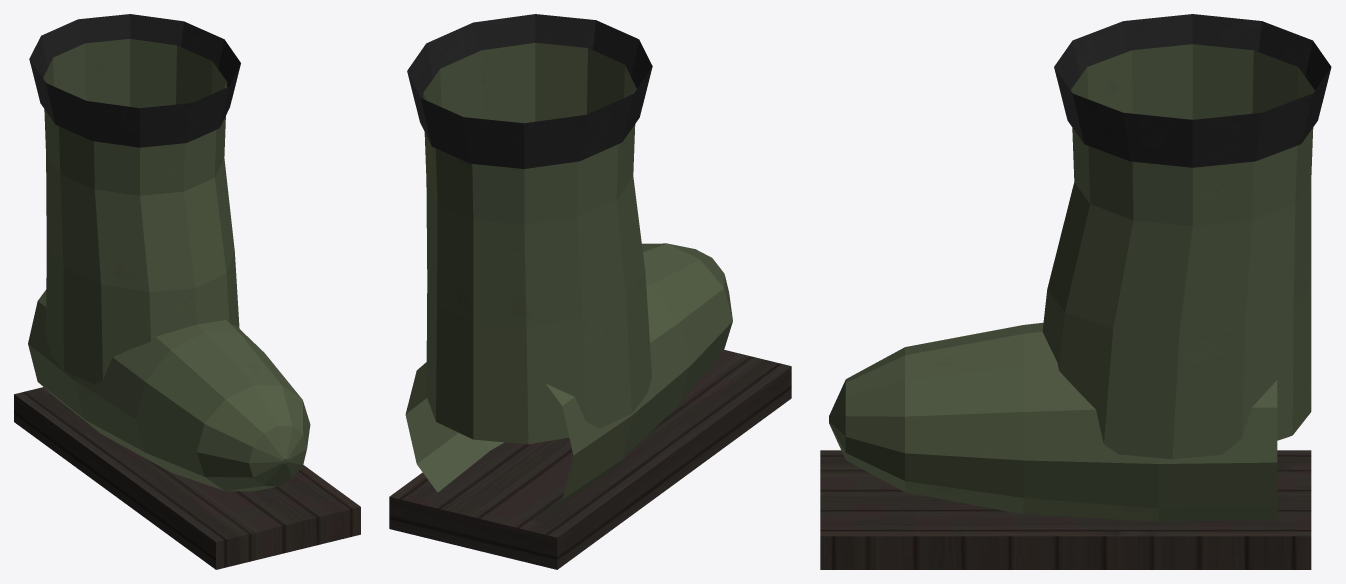
The model's file is eq_present_1_boot.glb.
3 views of the same model, side by side, from view 1: azimuth 30°, elevation 25°; view 2: azimuth 150°, elevation 25°; view 3: azimuth 270°, elevation 25° (orthographic). The views are drawn at different scales.
Visible parts, largest first — view 1: eq_present_1_boot; view 2: eq_present_1_boot; view 3: eq_present_1_boot.
Part boxes in pixels (left/top/right/bottom): eq_present_1_boot: left=14, top=14, right=360, bottom=569; eq_present_1_boot: left=389, top=14, right=791, bottom=569; eq_present_1_boot: left=820, top=14, right=1331, bottom=569.
Bounding box in the file's own units: 0.148 × 0.3 × 0.302.
Materials: 3 (3 with a texture image).
